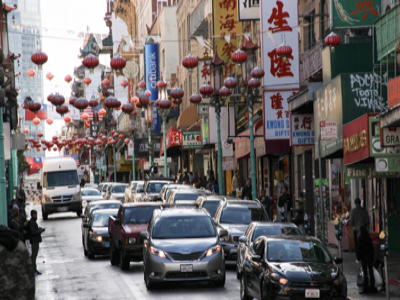licence: (305, 288, 320, 300)
